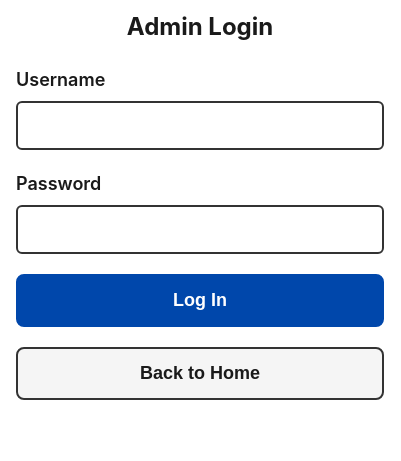
Test: Admin Login Page › shows generic error when adminLogin throws
Type "admin" into the field labelled "Username" at (200, 126), box [16, 101, 384, 150]
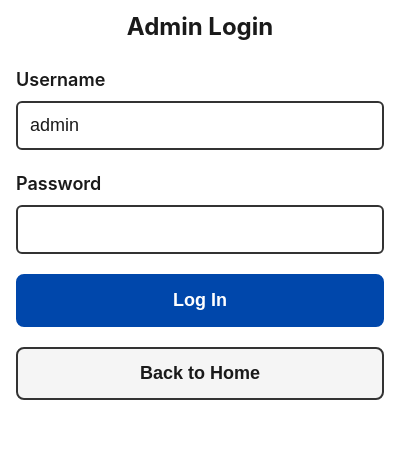
Type "pass" into the password field labelled "Password" at (200, 230), box [16, 205, 384, 254]
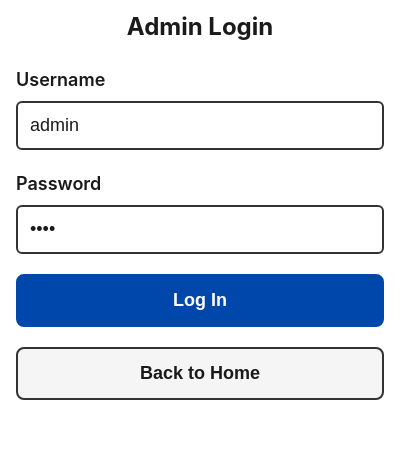
Click the button "Log In" at (200, 301), box [16, 274, 384, 327]
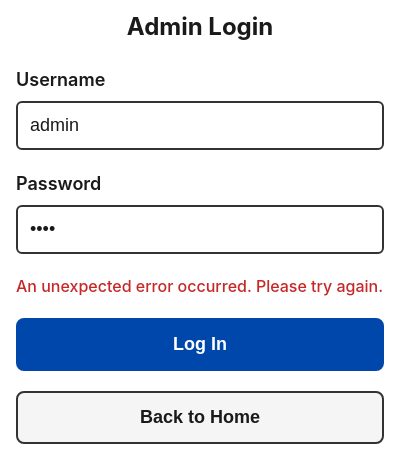
Result: the message shows "An unexpected error occurred" at [16, 276, 383, 296]
